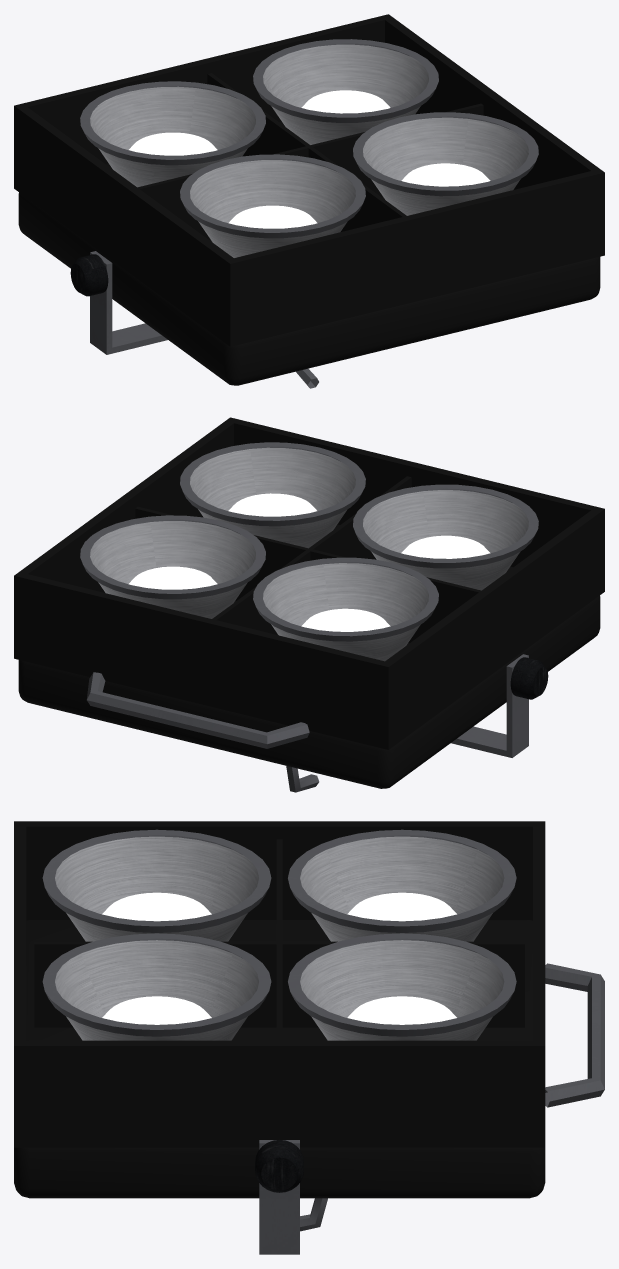
The model's file is blinder_moley_4.gltf.
The picture shows the model from 3 angles, top to bottom: view 1: azimuth 30°, elevation 25°; view 2: azimuth 150°, elevation 25°; view 3: azimuth 270°, elevation 25°; orthographic projection. The views are drawn at different scales.
Visible parts, largest first — view 1: blinder_moley_4; view 2: blinder_moley_4; view 3: blinder_moley_4.
Boxes of the visible parts, left/top/right/bottom form: blinder_moley_4: left=14, top=14, right=604, bottom=388; blinder_moley_4: left=14, top=417, right=604, bottom=792; blinder_moley_4: left=14, top=821, right=604, bottom=1254.
Size of the model in its own units: 0.642 by 0.3308 by 0.5785.
Materials: 5 (4 with a texture image).
